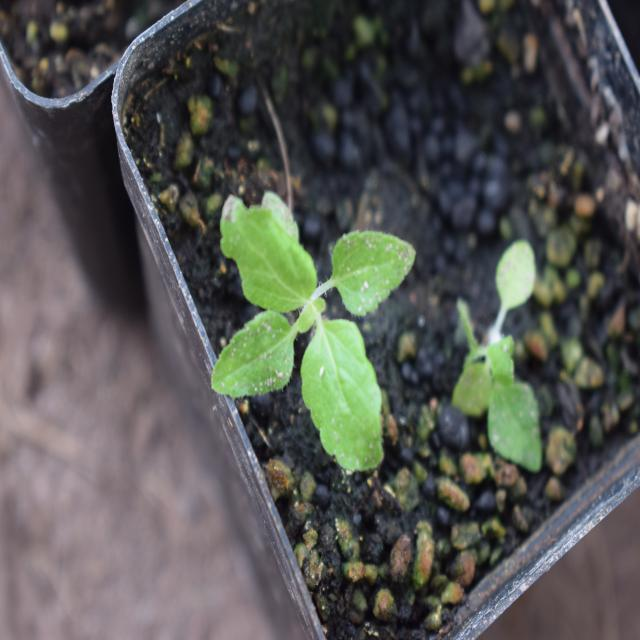billygoat_weed: (209, 184, 421, 466)
